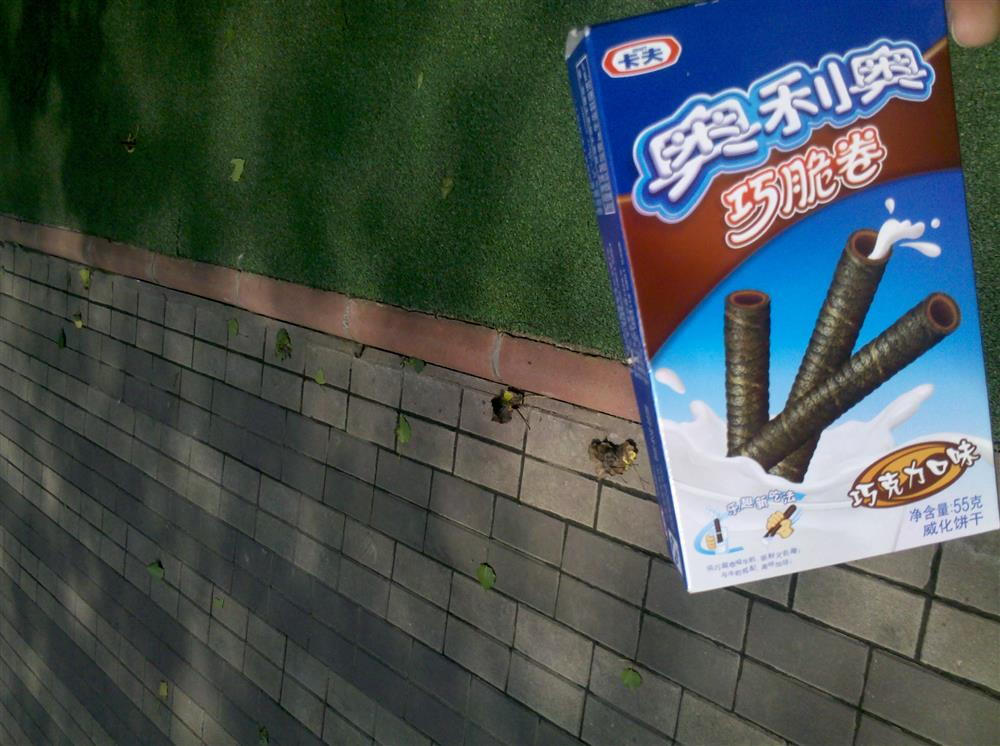Aodiao_Chocolate_Roll: (559, 6, 999, 589)
